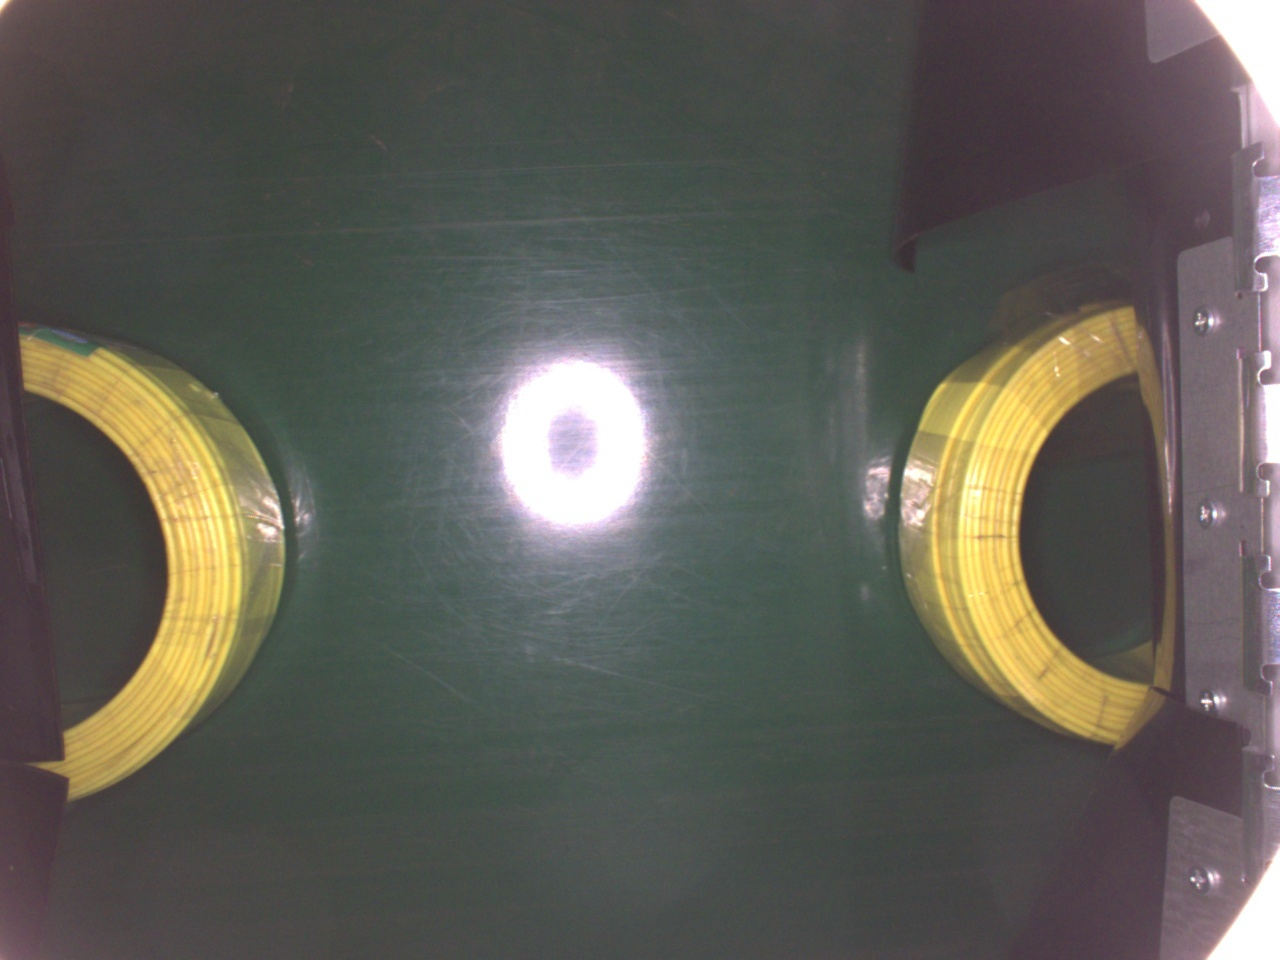yellow: (15, 310, 288, 806), (893, 292, 1170, 755)
